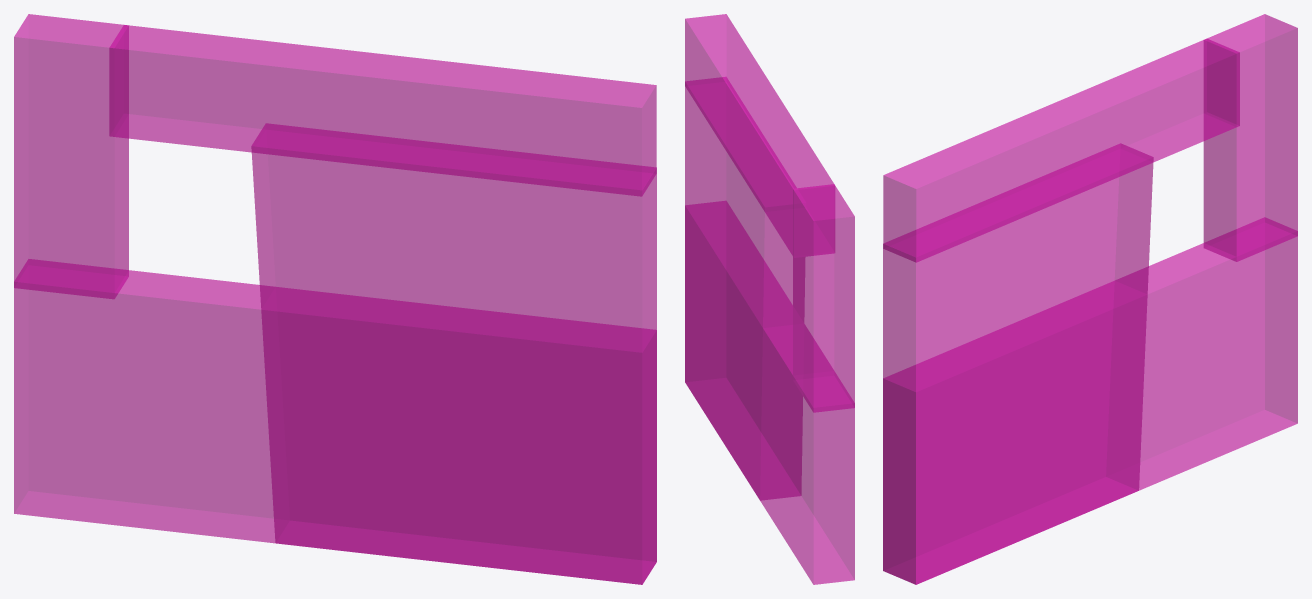
Rendered from SM_Bld_45_Wall_L_Damaged_02_Collision.fbx.
3 views of the same model, side by side, from view 1: azimuth 30°, elevation 25°; view 2: azimuth 150°, elevation 25°; view 3: azimuth 270°, elevation 25° (orthographic). The views are drawn at different scales.
Visible parts, largest first — view 1: SM_Bld_45_Wall_L_Damaged_02_Collision; view 2: SM_Bld_45_Wall_L_Damaged_02_Collision; view 3: SM_Bld_45_Wall_L_Damaged_02_Collision.
Boxes of the visible parts, x1,y1,x2,y2 form: SM_Bld_45_Wall_L_Damaged_02_Collision: (14, 14, 656, 584); SM_Bld_45_Wall_L_Damaged_02_Collision: (685, 14, 854, 584); SM_Bld_45_Wall_L_Damaged_02_Collision: (883, 14, 1297, 584).
Size of the model in its own units: 574 by 605 by 574.
